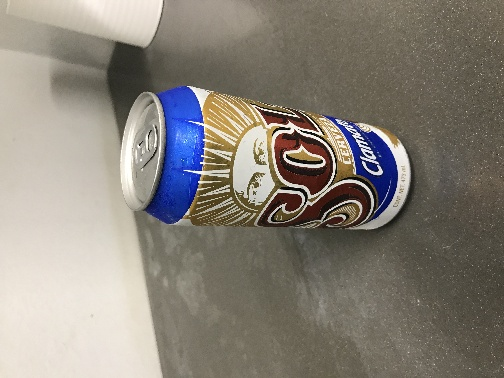SCL: (136, 65, 279, 167)
